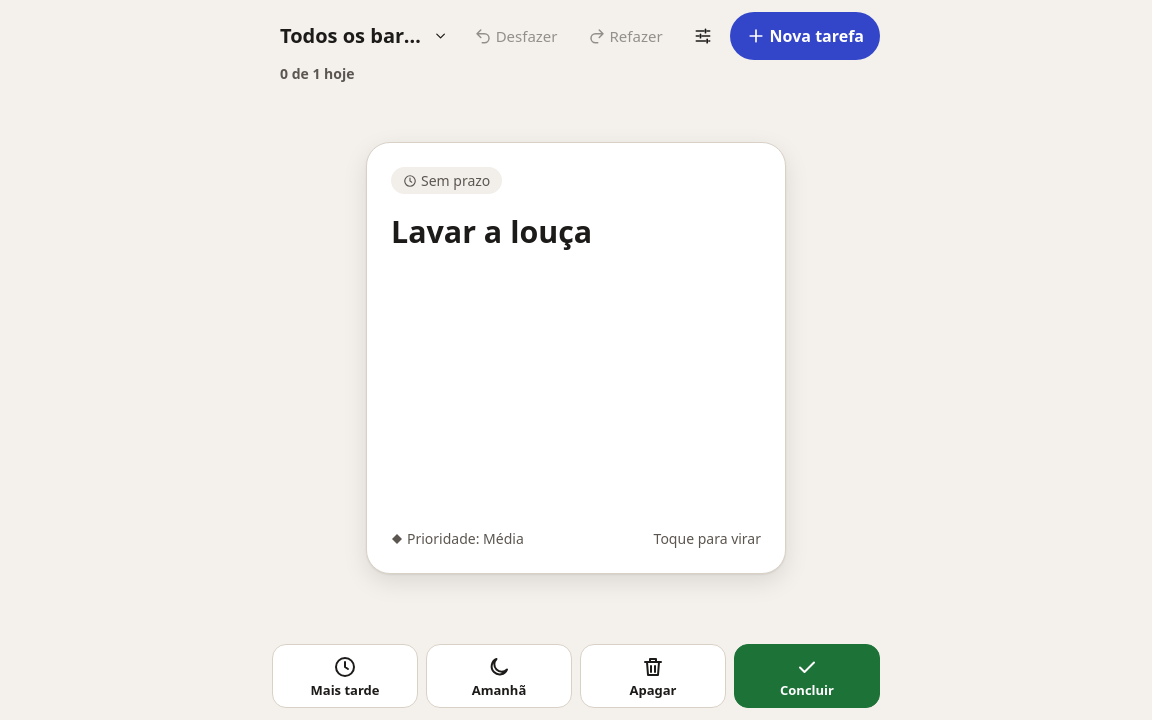
settings: storage status › shows persistent storage {"supported":true,"persisted":false} as "não"
What coordinates should you click on to do the following:
click the button named "Configurações"
I would click on:
 (703, 36)
Its box is [680, 12, 726, 60].
(page scrolled)
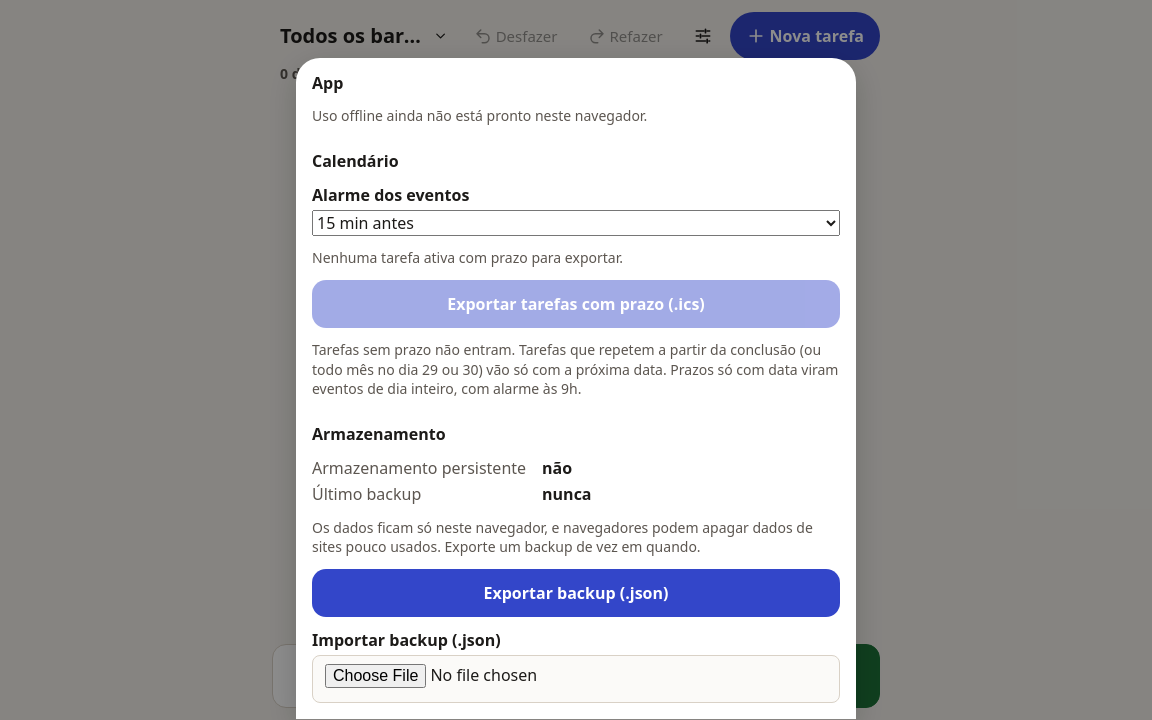
Now the text with test id "persistent-status" reads "não", box [542, 457, 572, 479]
